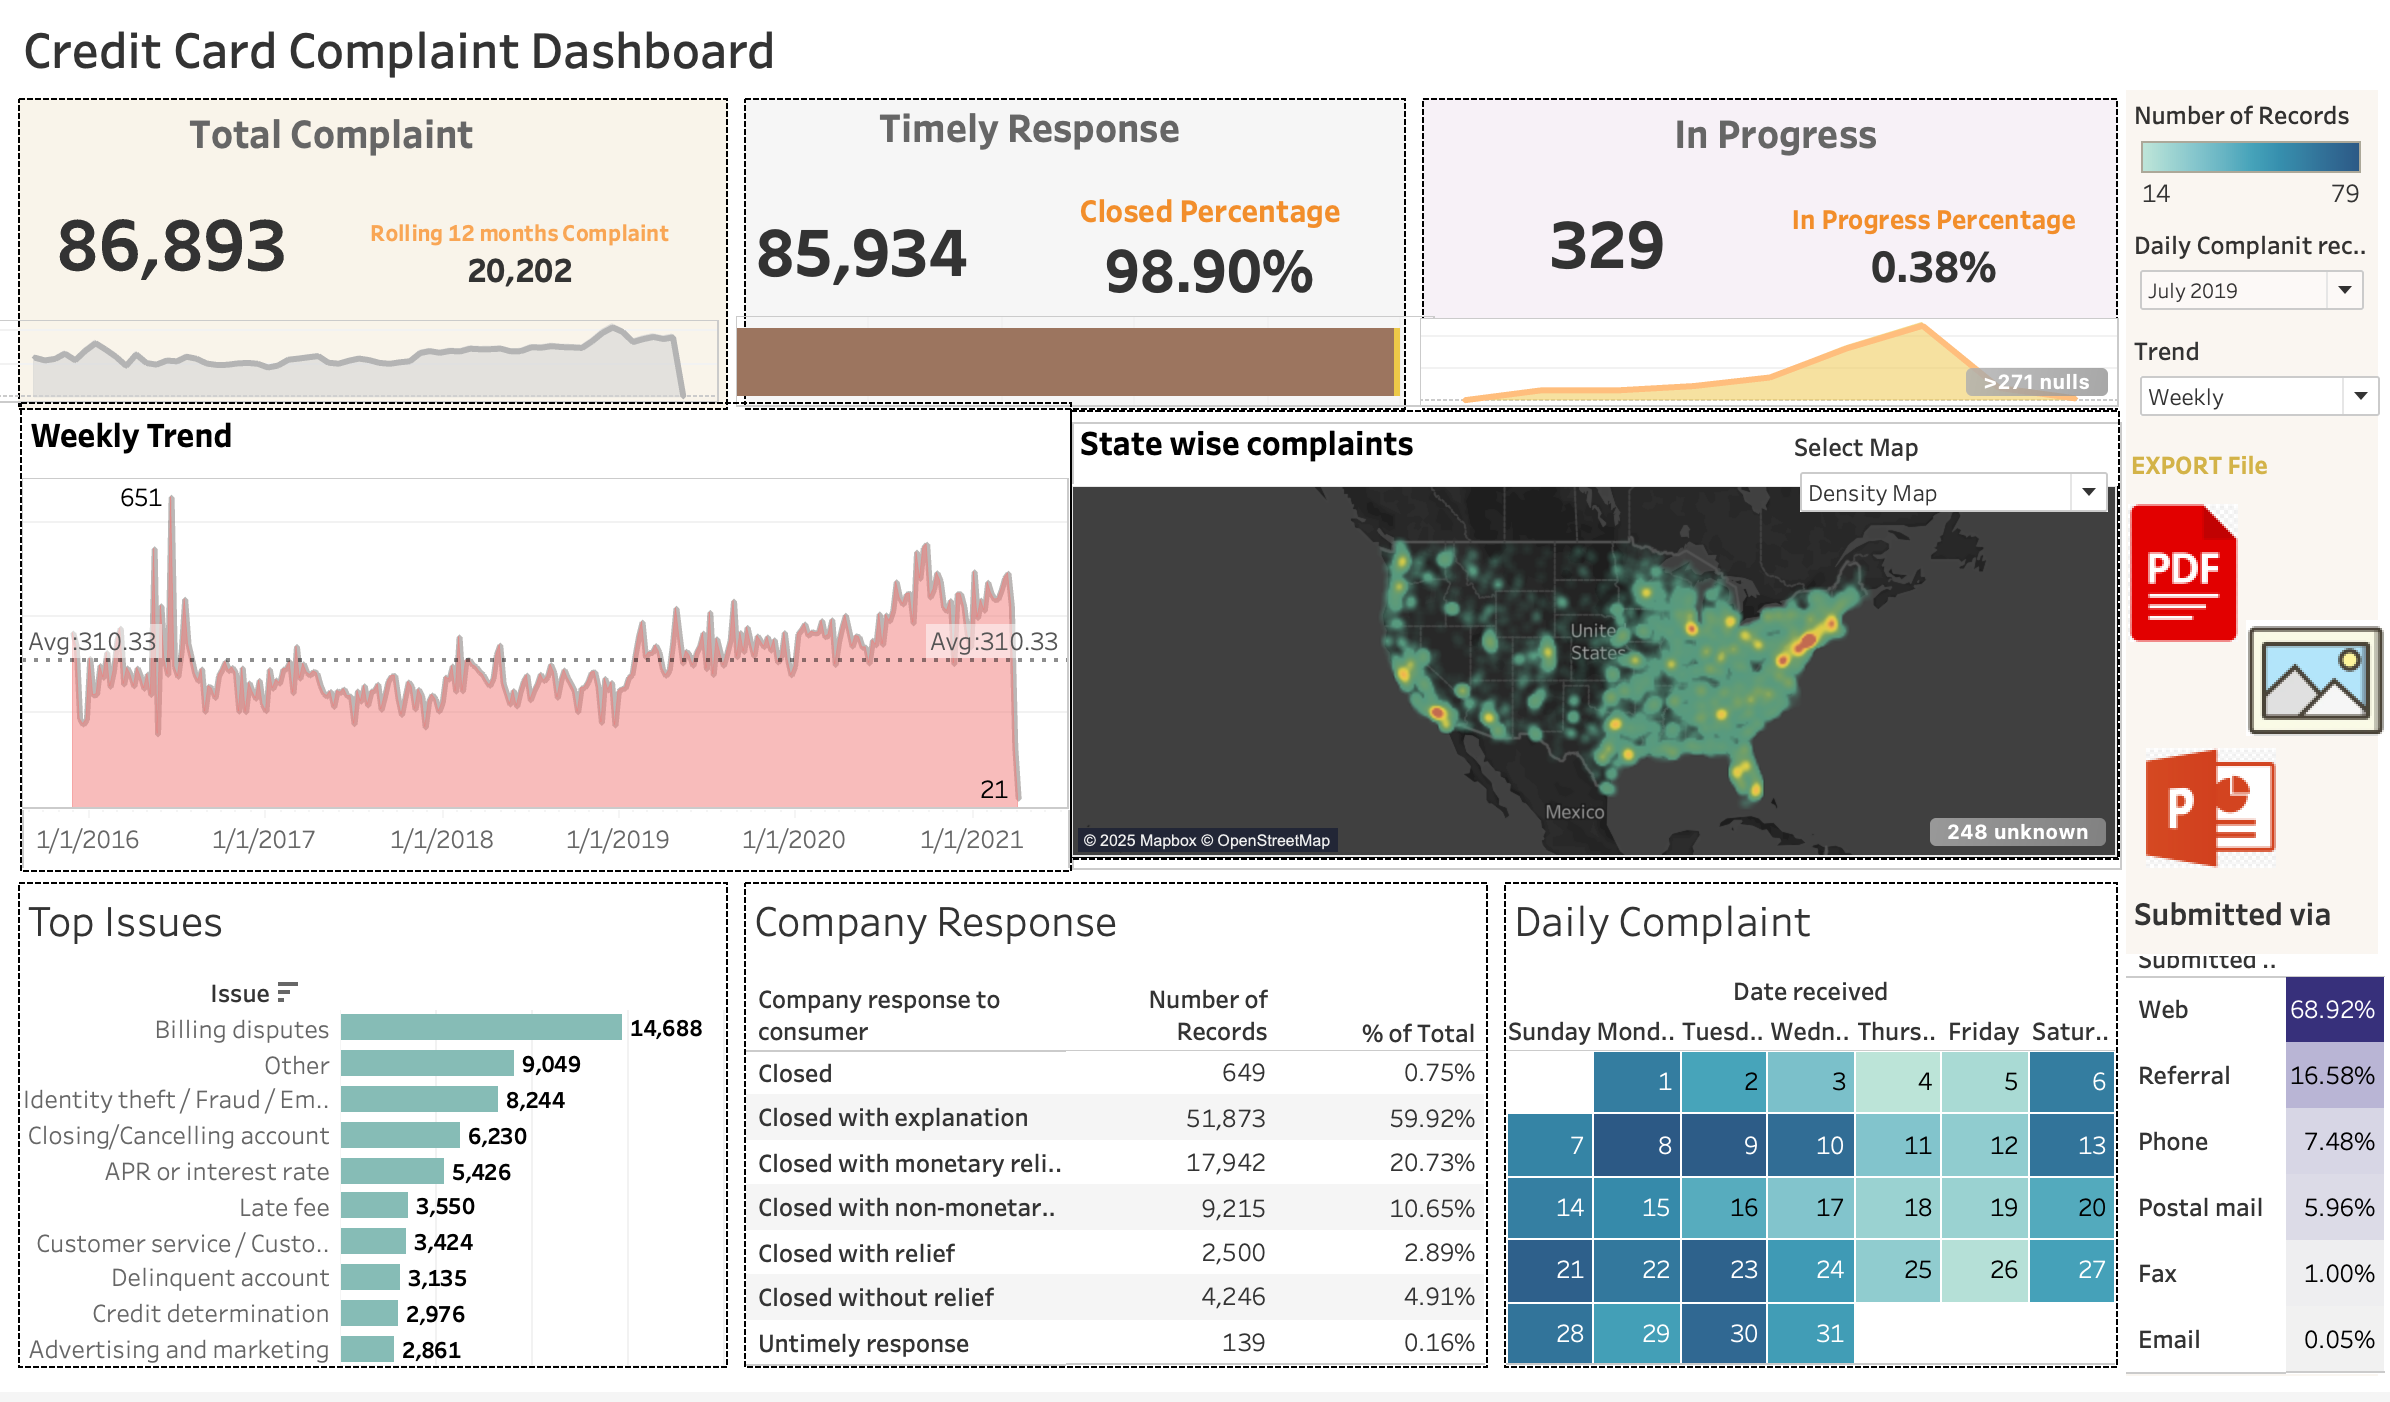

Layout of this report page (visuals, bound fields, positions):
{"tool":"tableau","page":{"name":"Credit Card Complaint Dashboard","canvas":[1200,700],"ordinal":0},"visuals":[{"type":"title","box":[8,8,1184,41]},{"type":"blank","box":[8,49,363,164]},{"type":"blank","box":[371,49,339,164]},{"type":"blank","box":[710,49,356,164]},{"type":"legend","title":"Daily Complaint","param":"[federated.07rigi30inlhtc11ugzze1ffb0cp].[sum:Number of Records:qk]","box":[1066,49,126,65]},{"type":"text","box":[429,52,178,30]},{"type":"text","box":[95,55,148,30]},{"type":"text","box":[817,55,148,30]},{"type":"worksheet","title":"In Progress Complaint","mark":"Automatic","box":[718,82,178,86]},{"type":"worksheet","title":"In progress %","mark":"Automatic","box":[883,82,174,92]},{"type":"worksheet","title":"Rolling 12 months Complaints","mark":"Automatic","box":[181,92,164,63]},{"type":"worksheet","title":"Total Complaints","mark":"Automatic","box":[17,93,143,63]},{"type":"worksheet","title":"Timely Response","mark":"Automatic","box":[357,98,154,62]},{"type":"worksheet","title":"Closed Percentage","mark":"Automatic","box":[515,99,186,60]},{"type":"filter","title":"Daily Complaint","param":"[federated.07rigi30inlhtc11ugzze1ffb0cp].[my:Date received:ok]","box":[1066,114,126,52]},{"type":"worksheet","title":"Progress bar","mark":"Bar","cols":["Calculation_2344334749183197190","Calculation_2344334749179764740"],"box":[371,162,350,46]},{"type":"worksheet","title":"In progress sparkline","mark":"Area","rows":["Calculation_2344334749185593351","Calculation_2344334749185593351"],"cols":["Date received"],"box":[713,163,350,45]},{"type":"worksheet","title":"Complaint Sparkline","mark":"Area","rows":["Number of Records","Number of Records"],"cols":["Date received"],"box":[2,164,361,42]},{"type":"parameter","param":"[Parameters].[Parameter 2]","box":[1070,171,126,44]},{"type":"worksheet","title":"Trend","mark":"Area","rows":["Number of Records","Number of Records"],"cols":["Calculation_2344334750341779465"],"box":[13,205,526,235]},{"type":"worksheet","title":"Density Map","mark":"Heatmap","box":[538,209,525,225]},{"type":"blank","box":[8,213,363,228]},{"type":"blank","box":[371,213,394,228]},{"type":"blank","box":[765,213,301,228]},{"type":"parameter","param":"[Parameters].[Parameter 3]","box":[900,219,160,44]},{"type":"text","box":[1066,220,127,33]},{"type":"dashboard-object","box":[1066,252,56,78]},{"type":"dashboard-object","box":[1126,305,71,76]},{"type":"dashboard-object","box":[1069,378,80,60]},{"type":"worksheet","title":"Top Issues","mark":"Automatic","rows":["Issue"],"cols":["Number of Records"],"box":[8,441,363,251]},{"type":"worksheet","title":"Company Response","mark":"Automatic","rows":["Company response to consumer"],"box":[371,441,380,251]},{"type":"worksheet","title":"Daily Complaint","mark":"Square","rows":["Date received"],"cols":["Date received"],"box":[751,441,315,251]},{"type":"worksheet","title":"Submitted via","mark":"Square","rows":["Submitted via"],"box":[1066,446,130,245]}]}

Visuals, with their boxes in screenshot pixels (x1, y1, x2, y2), scaled from the page's 1200x700 canvas onto the 2390x1402 screenshot:
title: 16, 16, 2374, 98
blank: 16, 98, 739, 427
blank: 739, 98, 1414, 427
blank: 1414, 98, 2123, 427
"Daily Complaint" legend: 2123, 98, 2374, 228
text: 854, 104, 1209, 164
text: 189, 110, 484, 170
text: 1627, 110, 1922, 170
"In Progress Complaint" worksheet: 1430, 164, 1785, 336
"In progress %" worksheet: 1759, 164, 2105, 348
"Rolling 12 months Complaints" worksheet: 360, 184, 687, 310
"Total Complaints" worksheet: 34, 186, 319, 312
"Timely Response" worksheet: 711, 196, 1018, 320
"Closed Percentage" worksheet: 1026, 198, 1396, 318
"Daily Complaint" filter: 2123, 228, 2374, 332
"Progress bar" worksheet (Bar marks): 739, 324, 1436, 417
"In progress sparkline" worksheet (Area marks): 1420, 326, 2117, 417
"Complaint Sparkline" worksheet (Area marks): 4, 328, 723, 413
parameter: 2131, 342, 2382, 431
"Trend" worksheet (Area marks): 26, 411, 1074, 881
"Density Map" worksheet (Heatmap marks): 1072, 419, 2117, 869
blank: 16, 427, 739, 883
blank: 739, 427, 1524, 883
blank: 1524, 427, 2123, 883
parameter: 1792, 439, 2111, 527
text: 2123, 441, 2376, 507
dashboard-object: 2123, 505, 2235, 661
dashboard-object: 2243, 611, 2384, 763
dashboard-object: 2129, 757, 2288, 877
"Top Issues" worksheet: 16, 883, 739, 1386
"Company Response" worksheet: 739, 883, 1496, 1386
"Daily Complaint" worksheet (Square marks): 1496, 883, 2123, 1386
"Submitted via" worksheet (Square marks): 2123, 893, 2382, 1384
